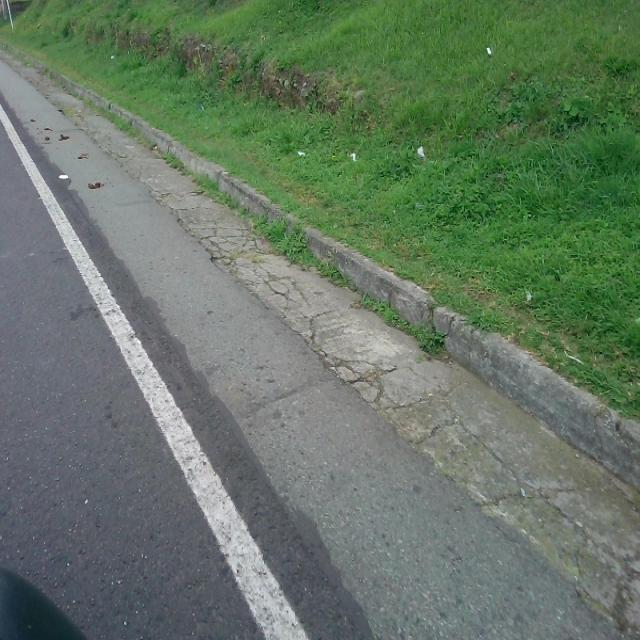DITCH: (1, 9, 638, 638), (1, 45, 638, 638)
